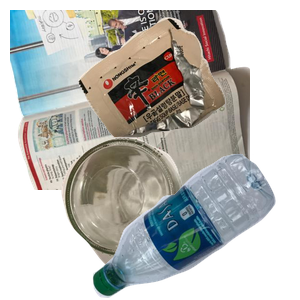glass: (59, 135, 254, 300)
paper: (10, 10, 250, 190)
plastic: (90, 154, 300, 300)
trash: (76, 15, 300, 145)
